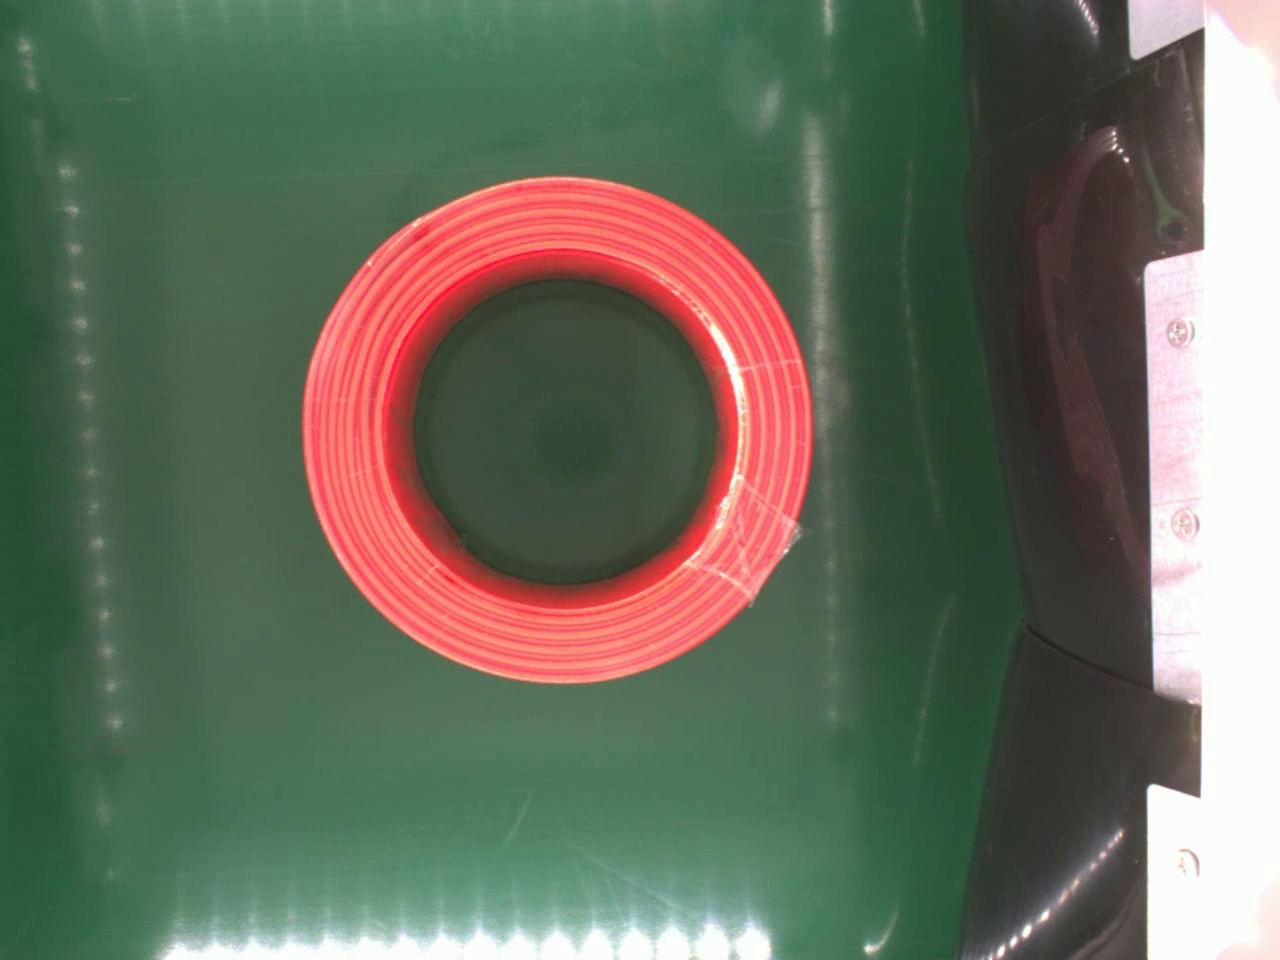red: (299, 174, 814, 685)
